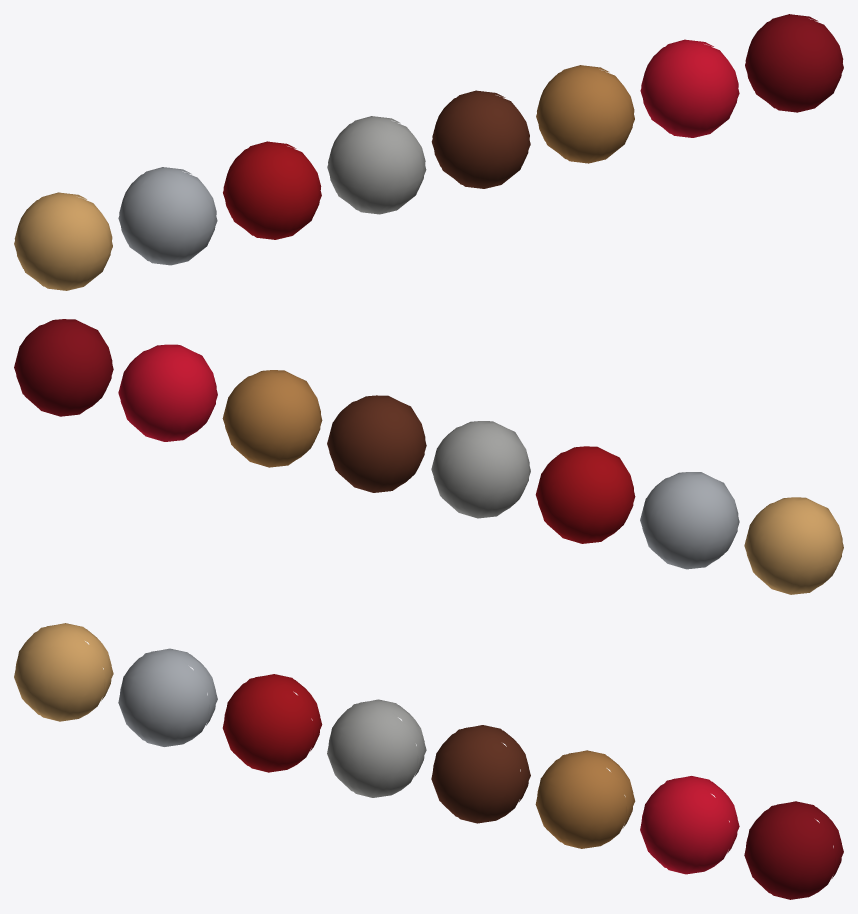
The picture shows the model from 3 angles, top to bottom: view 1: azimuth 30°, elevation 25°; view 2: azimuth 150°, elevation 25°; view 3: azimuth 330°, elevation 25°; orthographic projection.
Parts seen in each view (by area): view 1: horse (×2), ruby (×2), velvet (×2), saddle (×2), lacquer (×2), steel (×2), granite (×2), oak (×2); view 2: ruby (×2), granite (×2), oak (×2), velvet (×2), horse (×2), saddle (×2), steel (×2), lacquer (×2); view 3: granite (×2), saddle (×2), horse (×2), ruby (×2), oak (×2), steel (×2), lacquer (×2), velvet (×2).
Boxes of the visible parts, <box> form: horse (×2): <box>431,90,530,188</box>; ruby (×2): <box>640,39,739,137</box>; velvet (×2): <box>745,14,843,112</box>; saddle (×2): <box>536,65,634,163</box>; lacquer (×2): <box>223,141,321,239</box>; steel (×2): <box>118,167,217,265</box>; granite (×2): <box>327,116,426,214</box>; oak (×2): <box>14,192,112,290</box>; ruby (×2): <box>118,344,217,441</box>; granite (×2): <box>431,421,530,518</box>; oak (×2): <box>744,497,843,594</box>; velvet (×2): <box>14,319,113,416</box>; horse (×2): <box>327,395,426,492</box>; saddle (×2): <box>222,370,322,467</box>; steel (×2): <box>640,472,739,569</box>; lacquer (×2): <box>535,446,635,543</box>; granite (×2): <box>327,699,426,797</box>; saddle (×2): <box>535,750,635,848</box>; horse (×2): <box>431,725,530,823</box>; ruby (×2): <box>640,776,739,874</box>; oak (×2): <box>14,623,113,721</box>; steel (×2): <box>118,648,217,746</box>; lacquer (×2): <box>222,674,322,772</box>; velvet (×2): <box>744,801,843,899</box>.
Size of the model in its own units: 9.68 by 1 by 1.
